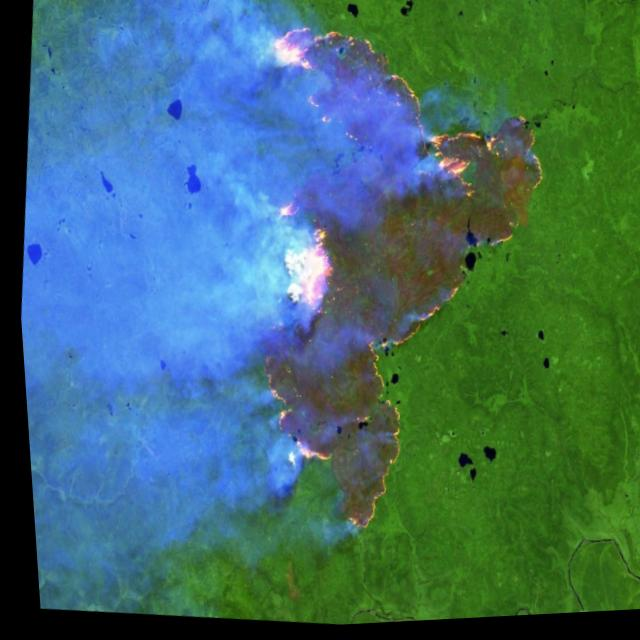fire: (144, 1, 578, 567)
